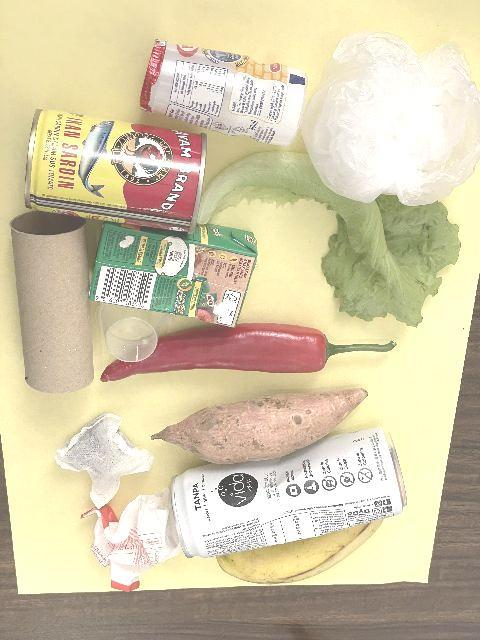banana: (214, 511, 386, 585)
chilli: (100, 322, 397, 382)
drinkcan: (168, 424, 408, 560)
drinkpack: (86, 210, 260, 330)
foodcan: (23, 107, 207, 236)
lettuce: (194, 149, 462, 329)
paperbag: (79, 485, 182, 593)
plasticbag: (300, 30, 480, 208)
plasticbottle: (138, 36, 310, 148)
plasticcontainer: (94, 300, 174, 364)
sweetpotato: (150, 387, 368, 465)
teabag: (54, 412, 156, 510)
tissueroll: (10, 210, 95, 396)
